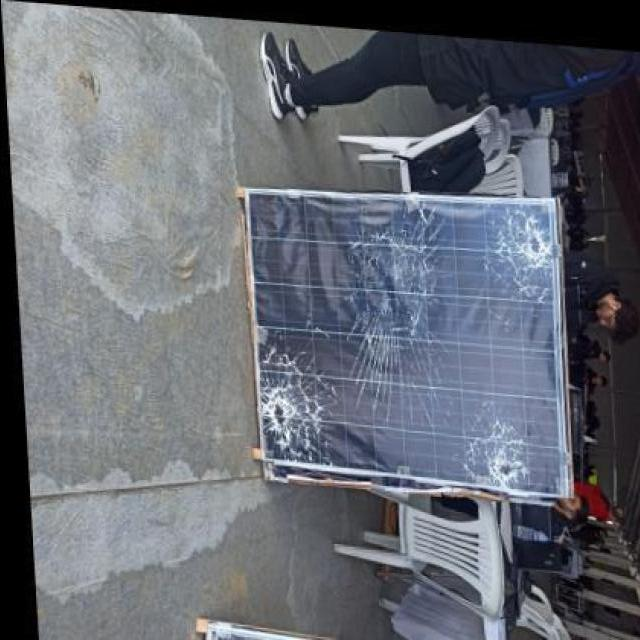cracked: (239, 190, 573, 504)
